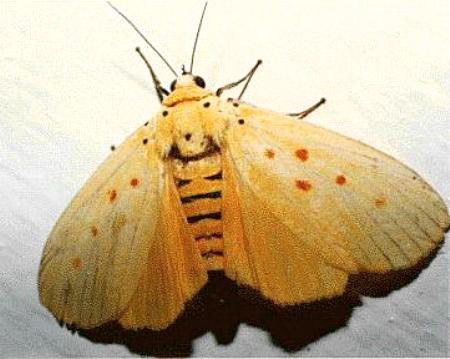Agape chloropyga: (35, 3, 450, 339)
moth: (35, 1, 450, 337)
